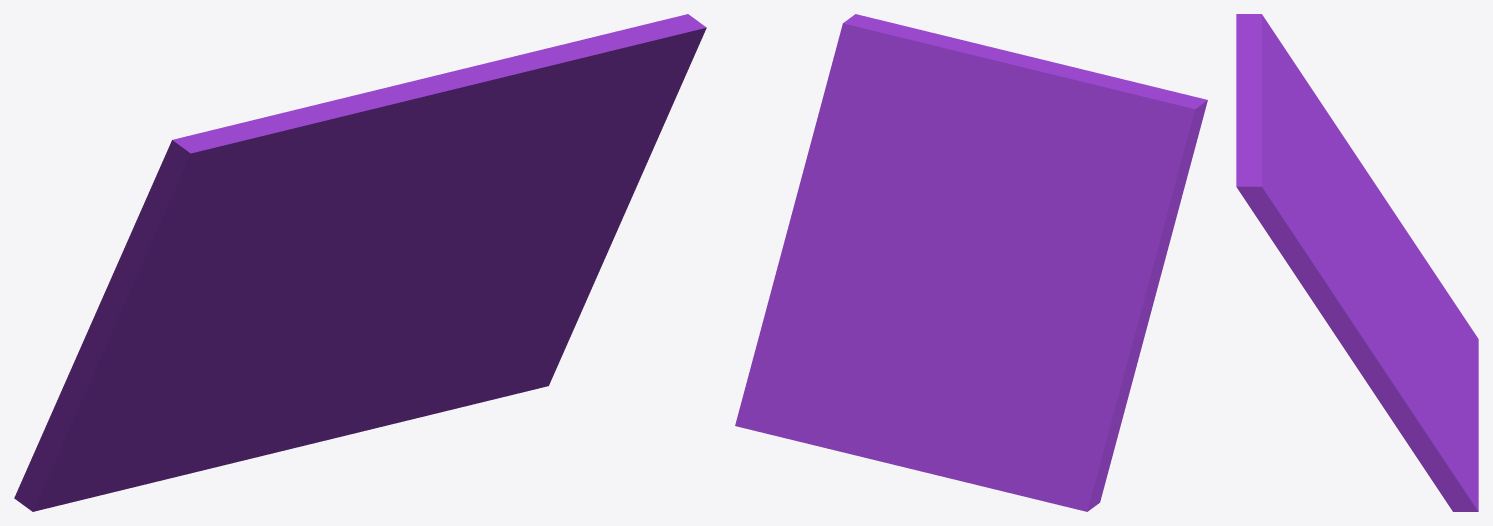
The model's file is Window_20_chunks.fbx.
The picture shows the model from 3 angles, left to right: view 1: azimuth 30°, elevation 25°; view 2: azimuth 150°, elevation 25°; view 3: azimuth 270°, elevation 25°; orthographic projection. The views are drawn at different scales.
Visible parts, largest first — view 1: Window_20_5, Window_20_7, Window_20_9, Window_20_2, Window_20_1, Window_20_15, Window_20_17, Window_20_4, Window_20_13, Window_20_8, Window_20_12, Window_20_14 (+3 smaller); view 2: Window_20_7, Window_20_9, Window_20_5, Window_20_2, Window_20_1, Window_20_6, Window_20_13, Window_20_15, Window_20_12, Window_20_8, Window_20_17, Window_20_4 (+6 smaller); view 3: Window_20_9, Window_20_2, Window_20_7, Window_20_5, Window_20_15, Window_20_1, Window_20_12, Window_20_6, Window_20_13, Window_20_17, Window_20_8, Window_20_14 (+6 smaller).
Boxes of the visible parts, box(x1,y1,x2,y2) form: Window_20_5: box(14, 307, 234, 511); Window_20_7: box(99, 116, 324, 322); Window_20_9: box(473, 14, 706, 236); Window_20_2: box(410, 206, 627, 336); Window_20_1: box(154, 260, 426, 482); Window_20_15: box(271, 83, 436, 221); Window_20_17: box(421, 42, 601, 161); Window_20_4: box(223, 210, 355, 343); Window_20_13: box(193, 332, 425, 472); Window_20_8: box(333, 182, 513, 266); Window_20_12: box(358, 353, 562, 432); Window_20_14: box(414, 332, 570, 375); Window_20_7: box(1035, 85, 1207, 296); Window_20_9: box(793, 14, 937, 233); Window_20_5: box(1004, 290, 1156, 511); Window_20_2: box(755, 211, 919, 351); Window_20_1: box(904, 250, 1009, 492); Window_20_6: box(972, 266, 1073, 463); Window_20_13: box(861, 341, 996, 489); Window_20_15: box(1004, 59, 1148, 189); Window_20_12: box(735, 373, 878, 460); Window_20_8: box(872, 180, 1030, 260); Window_20_17: box(923, 31, 1039, 130); Window_20_4: box(966, 189, 1051, 293); Window_20_9: box(1236, 147, 1364, 348); Window_20_2: box(1344, 280, 1438, 466); Window_20_7: box(1236, 14, 1368, 207); Window_20_5: box(1362, 165, 1478, 376); Window_20_15: box(1236, 43, 1322, 168); Window_20_1: box(1366, 258, 1478, 383); Window_20_12: box(1433, 418, 1478, 511); Window_20_6: box(1359, 206, 1463, 360); Window_20_13: box(1416, 352, 1478, 440); Window_20_17: box(1236, 96, 1304, 193); Window_20_8: box(1323, 174, 1366, 301); Window_20_14: box(1415, 361, 1450, 481).
Bounding box in the file's own units: 1059 × 930 × 628.
